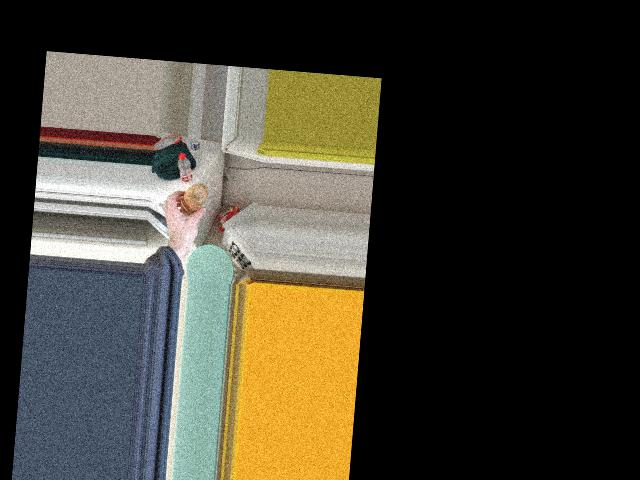sweet_potato: (177, 181, 208, 218)
